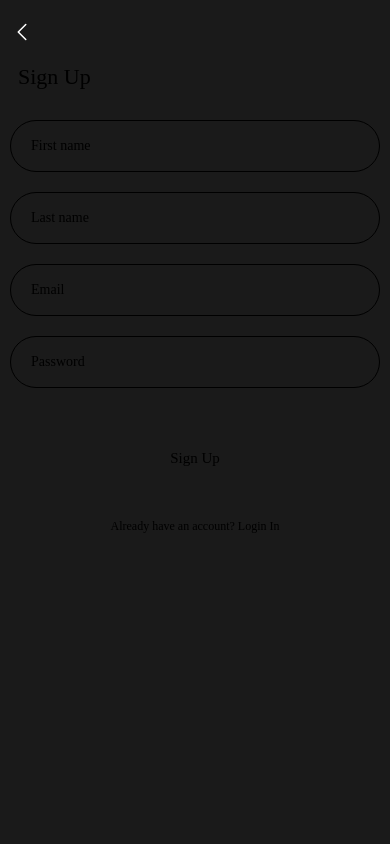
Test: RegisterScreen › Validation › Error Cleaning › should clear First name error when First name input is focused
Click the element with test id "Register": (195, 458) [170, 450, 220, 466]
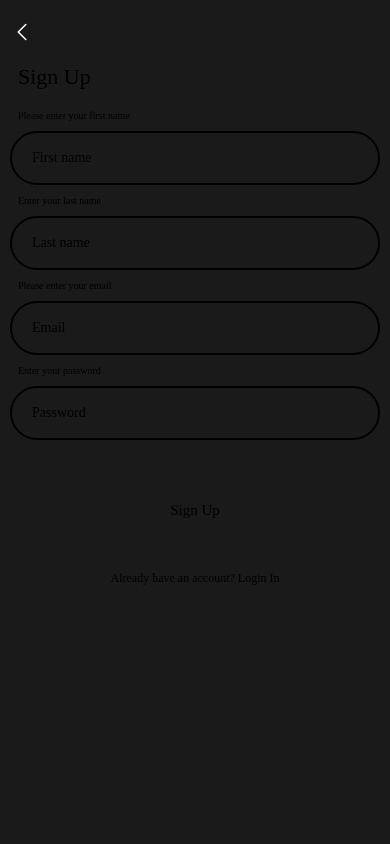
Focus the field with placeholder "First name": (195, 158) [12, 133, 378, 183]
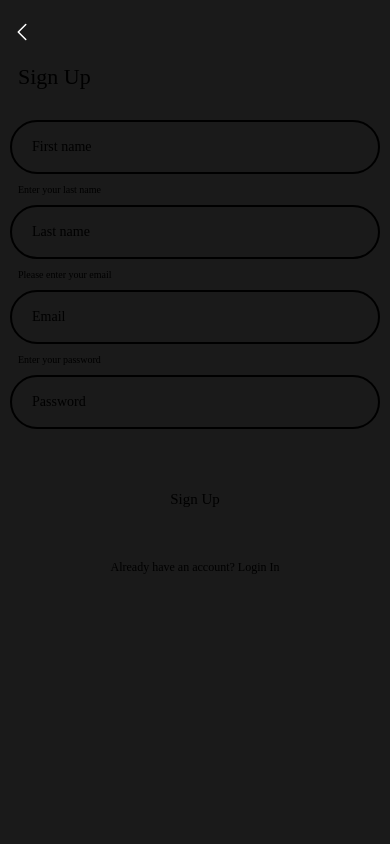
Now the text "Please enter your first name" is gone
